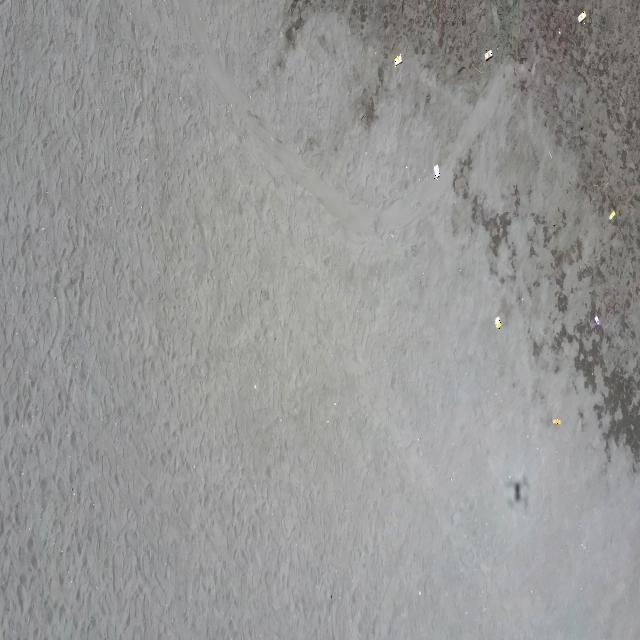Garbage: (506, 475, 526, 507), (393, 54, 402, 65), (433, 163, 439, 179), (484, 48, 492, 60), (577, 12, 586, 22), (608, 208, 615, 220), (593, 315, 600, 326), (495, 316, 502, 327), (552, 417, 560, 424)
